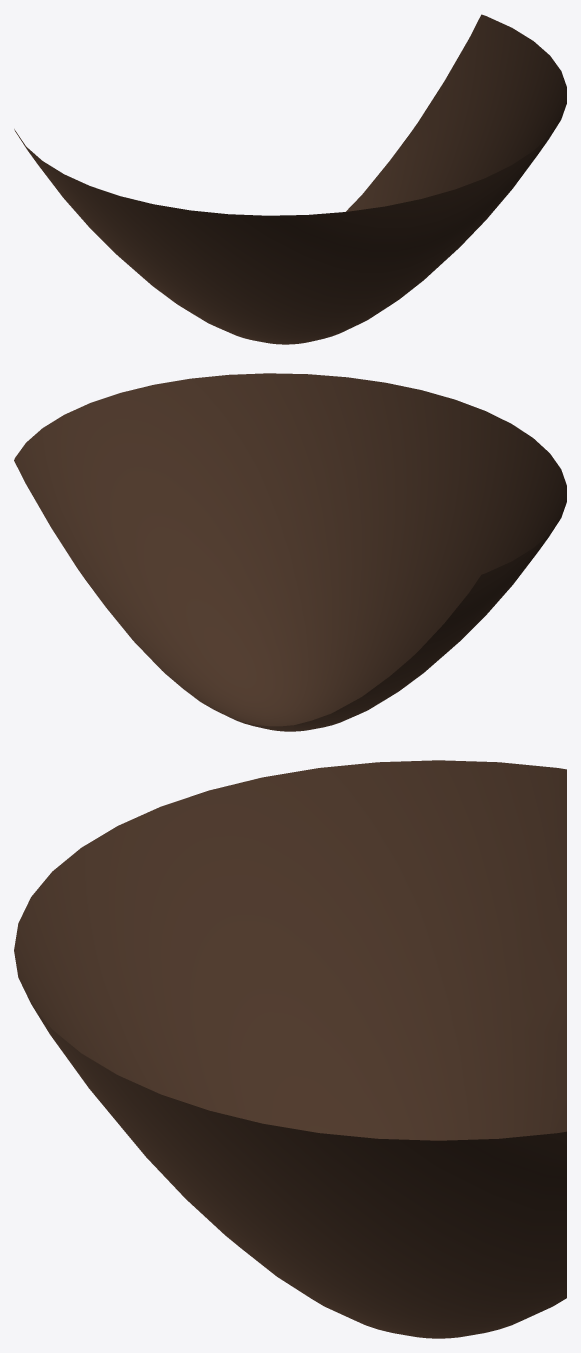
The model's file is beard_stubble.fbx.
The picture shows the model from 3 angles, top to bottom: view 1: azimuth 30°, elevation 25°; view 2: azimuth 150°, elevation 25°; view 3: azimuth 270°, elevation 25°; orthographic projection. The views are drawn at different scales.
Visible parts, largest first — view 1: beard_stubble; view 2: beard_stubble; view 3: beard_stubble.
Part boxes in pixels (x1,y1,x2,y2): beard_stubble: [14, 14, 566, 344]; beard_stubble: [14, 373, 566, 731]; beard_stubble: [14, 760, 566, 1338].
Size of the model in its own units: 0.2281 by 0.1034 by 0.1401.
